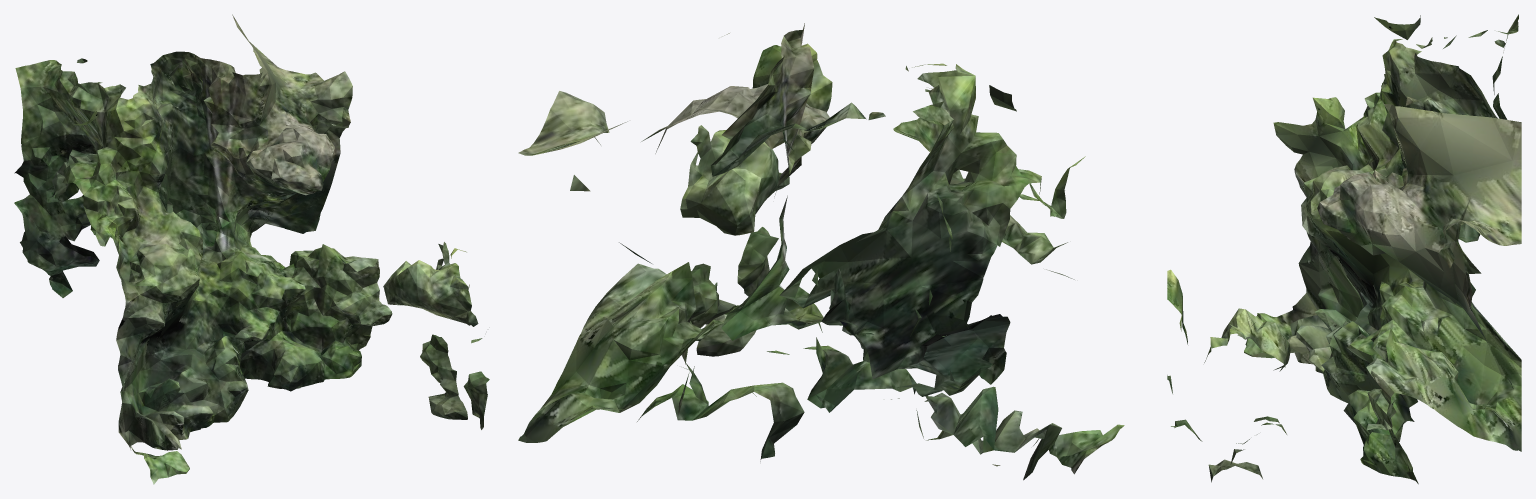
3 renders of one model, left to right at view 1: azimuth 30°, elevation 25°; view 2: azimuth 150°, elevation 25°; view 3: azimuth 270°, elevation 25°, orthographic. The views are drawn at different scales.
Bounding box in the file's own units: 26.11 × 26.11 × 26.11.
6 materials, 6 textured.
